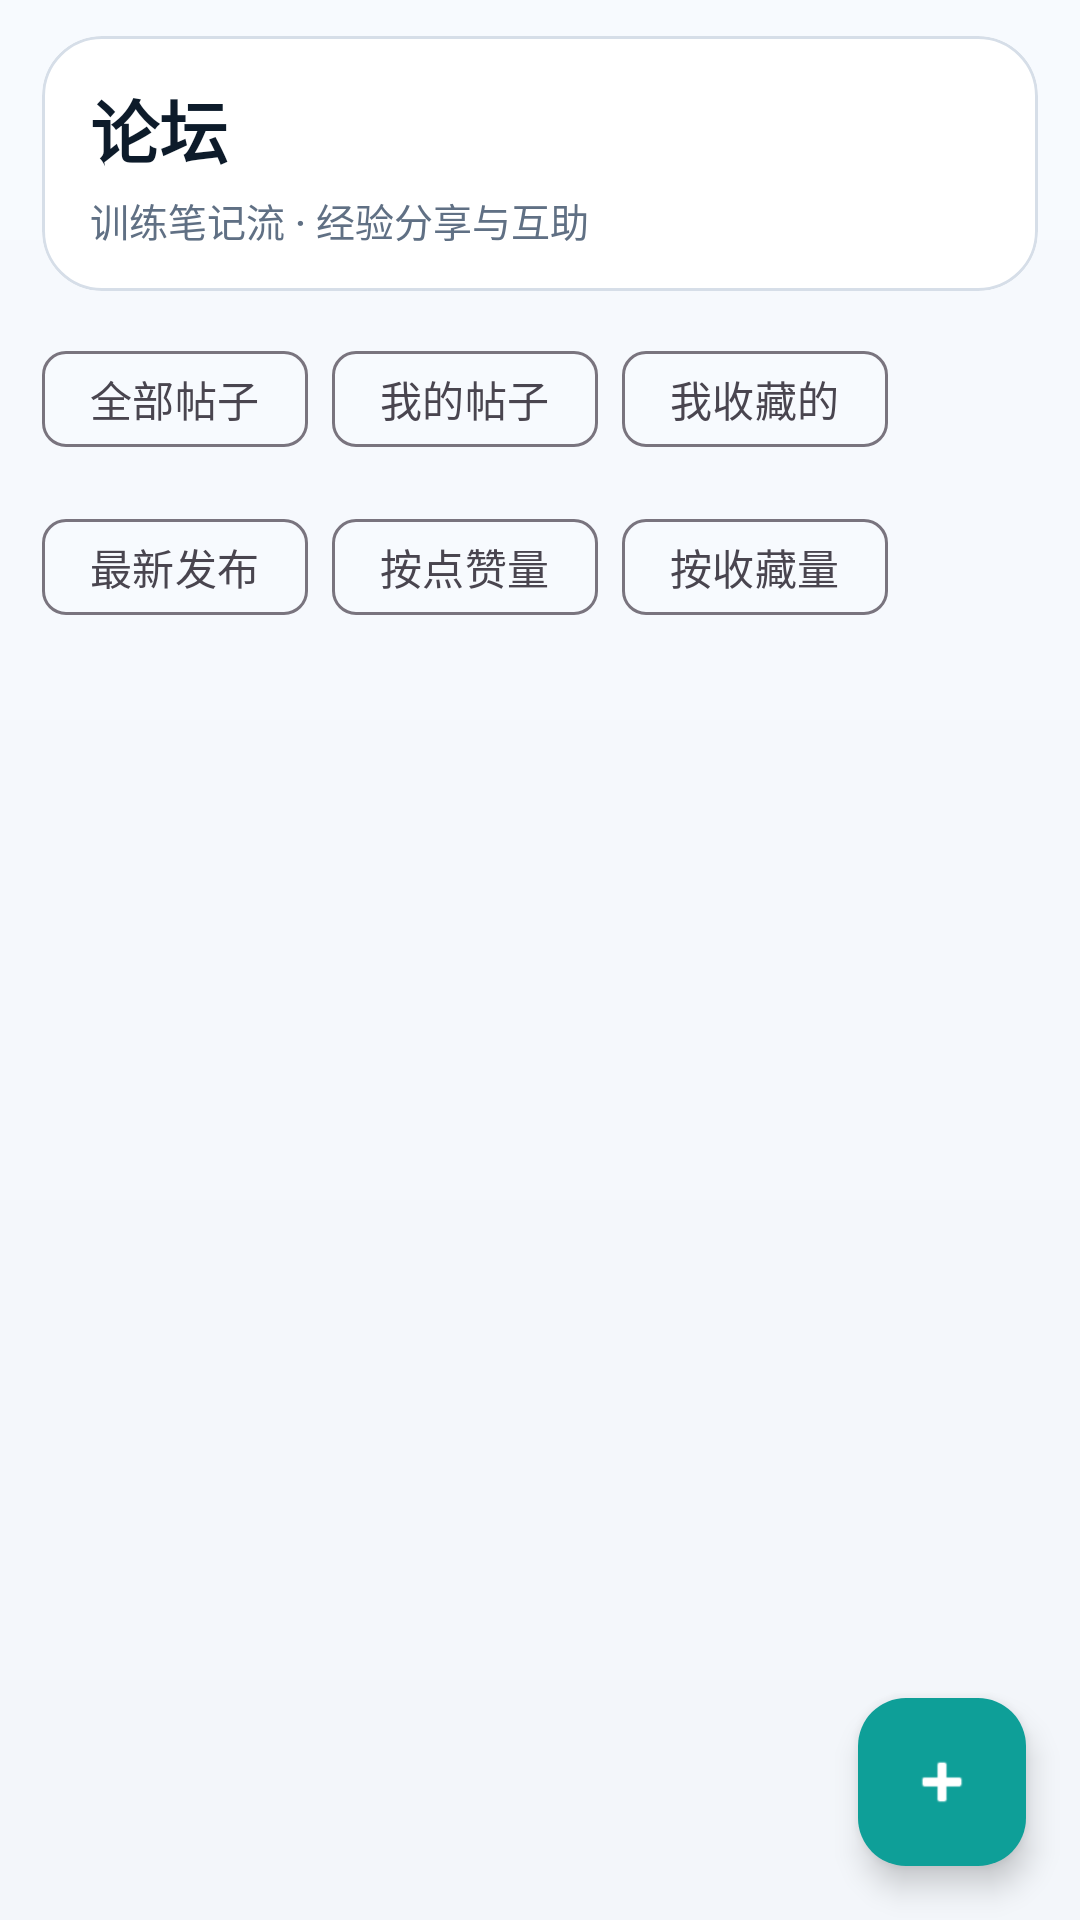

Where icons sit on this 1080px×1920px app screen, as (x1, y1, x2, y2):
写帖子: (858, 1698, 1026, 1866)
